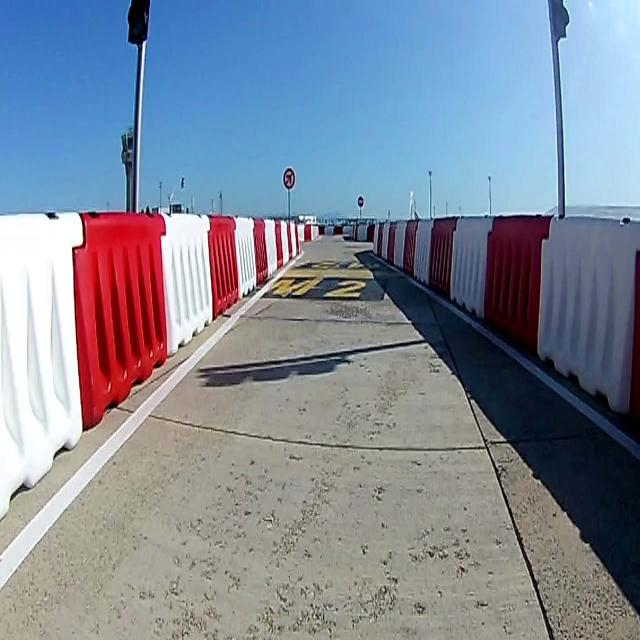soladonulmez: (283, 167, 295, 190)
